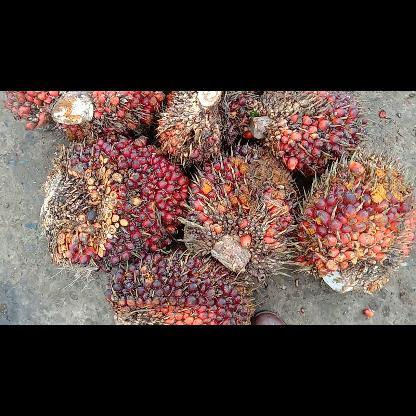TBS masak: (37, 139, 187, 271), (183, 138, 304, 282), (301, 151, 415, 291), (104, 246, 254, 324), (233, 93, 374, 175), (158, 90, 228, 168), (50, 92, 164, 138)
